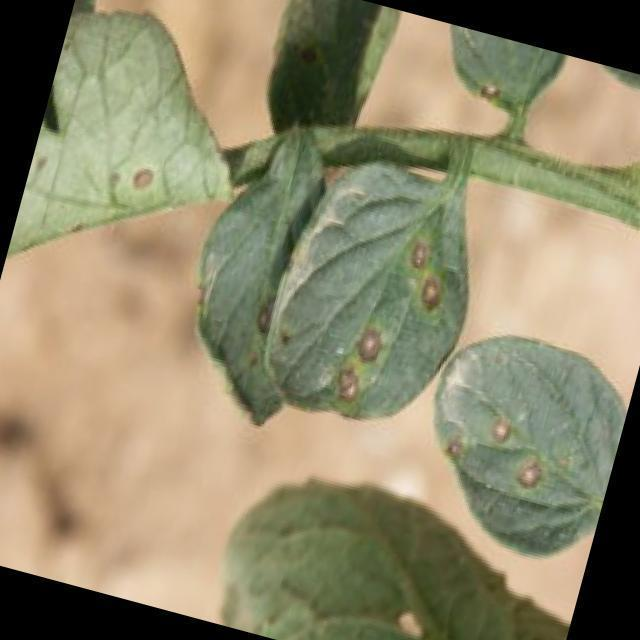Septoria: (328, 216, 457, 428), (428, 396, 556, 521)
